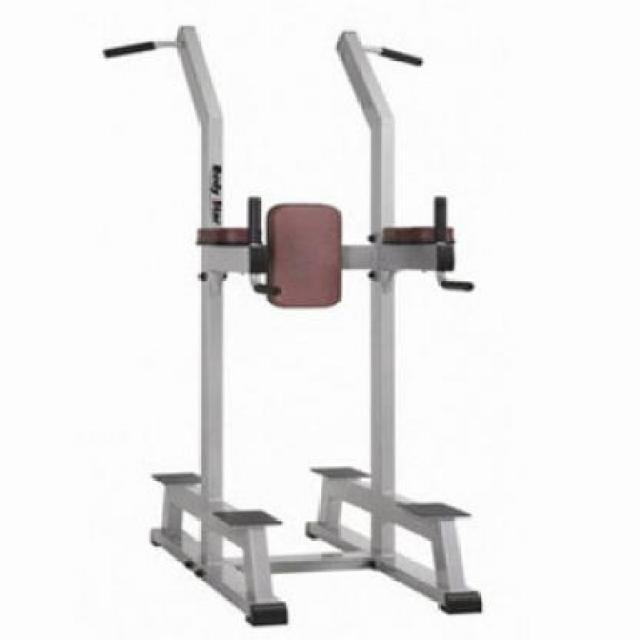chinning dipping: (103, 24, 483, 630)
